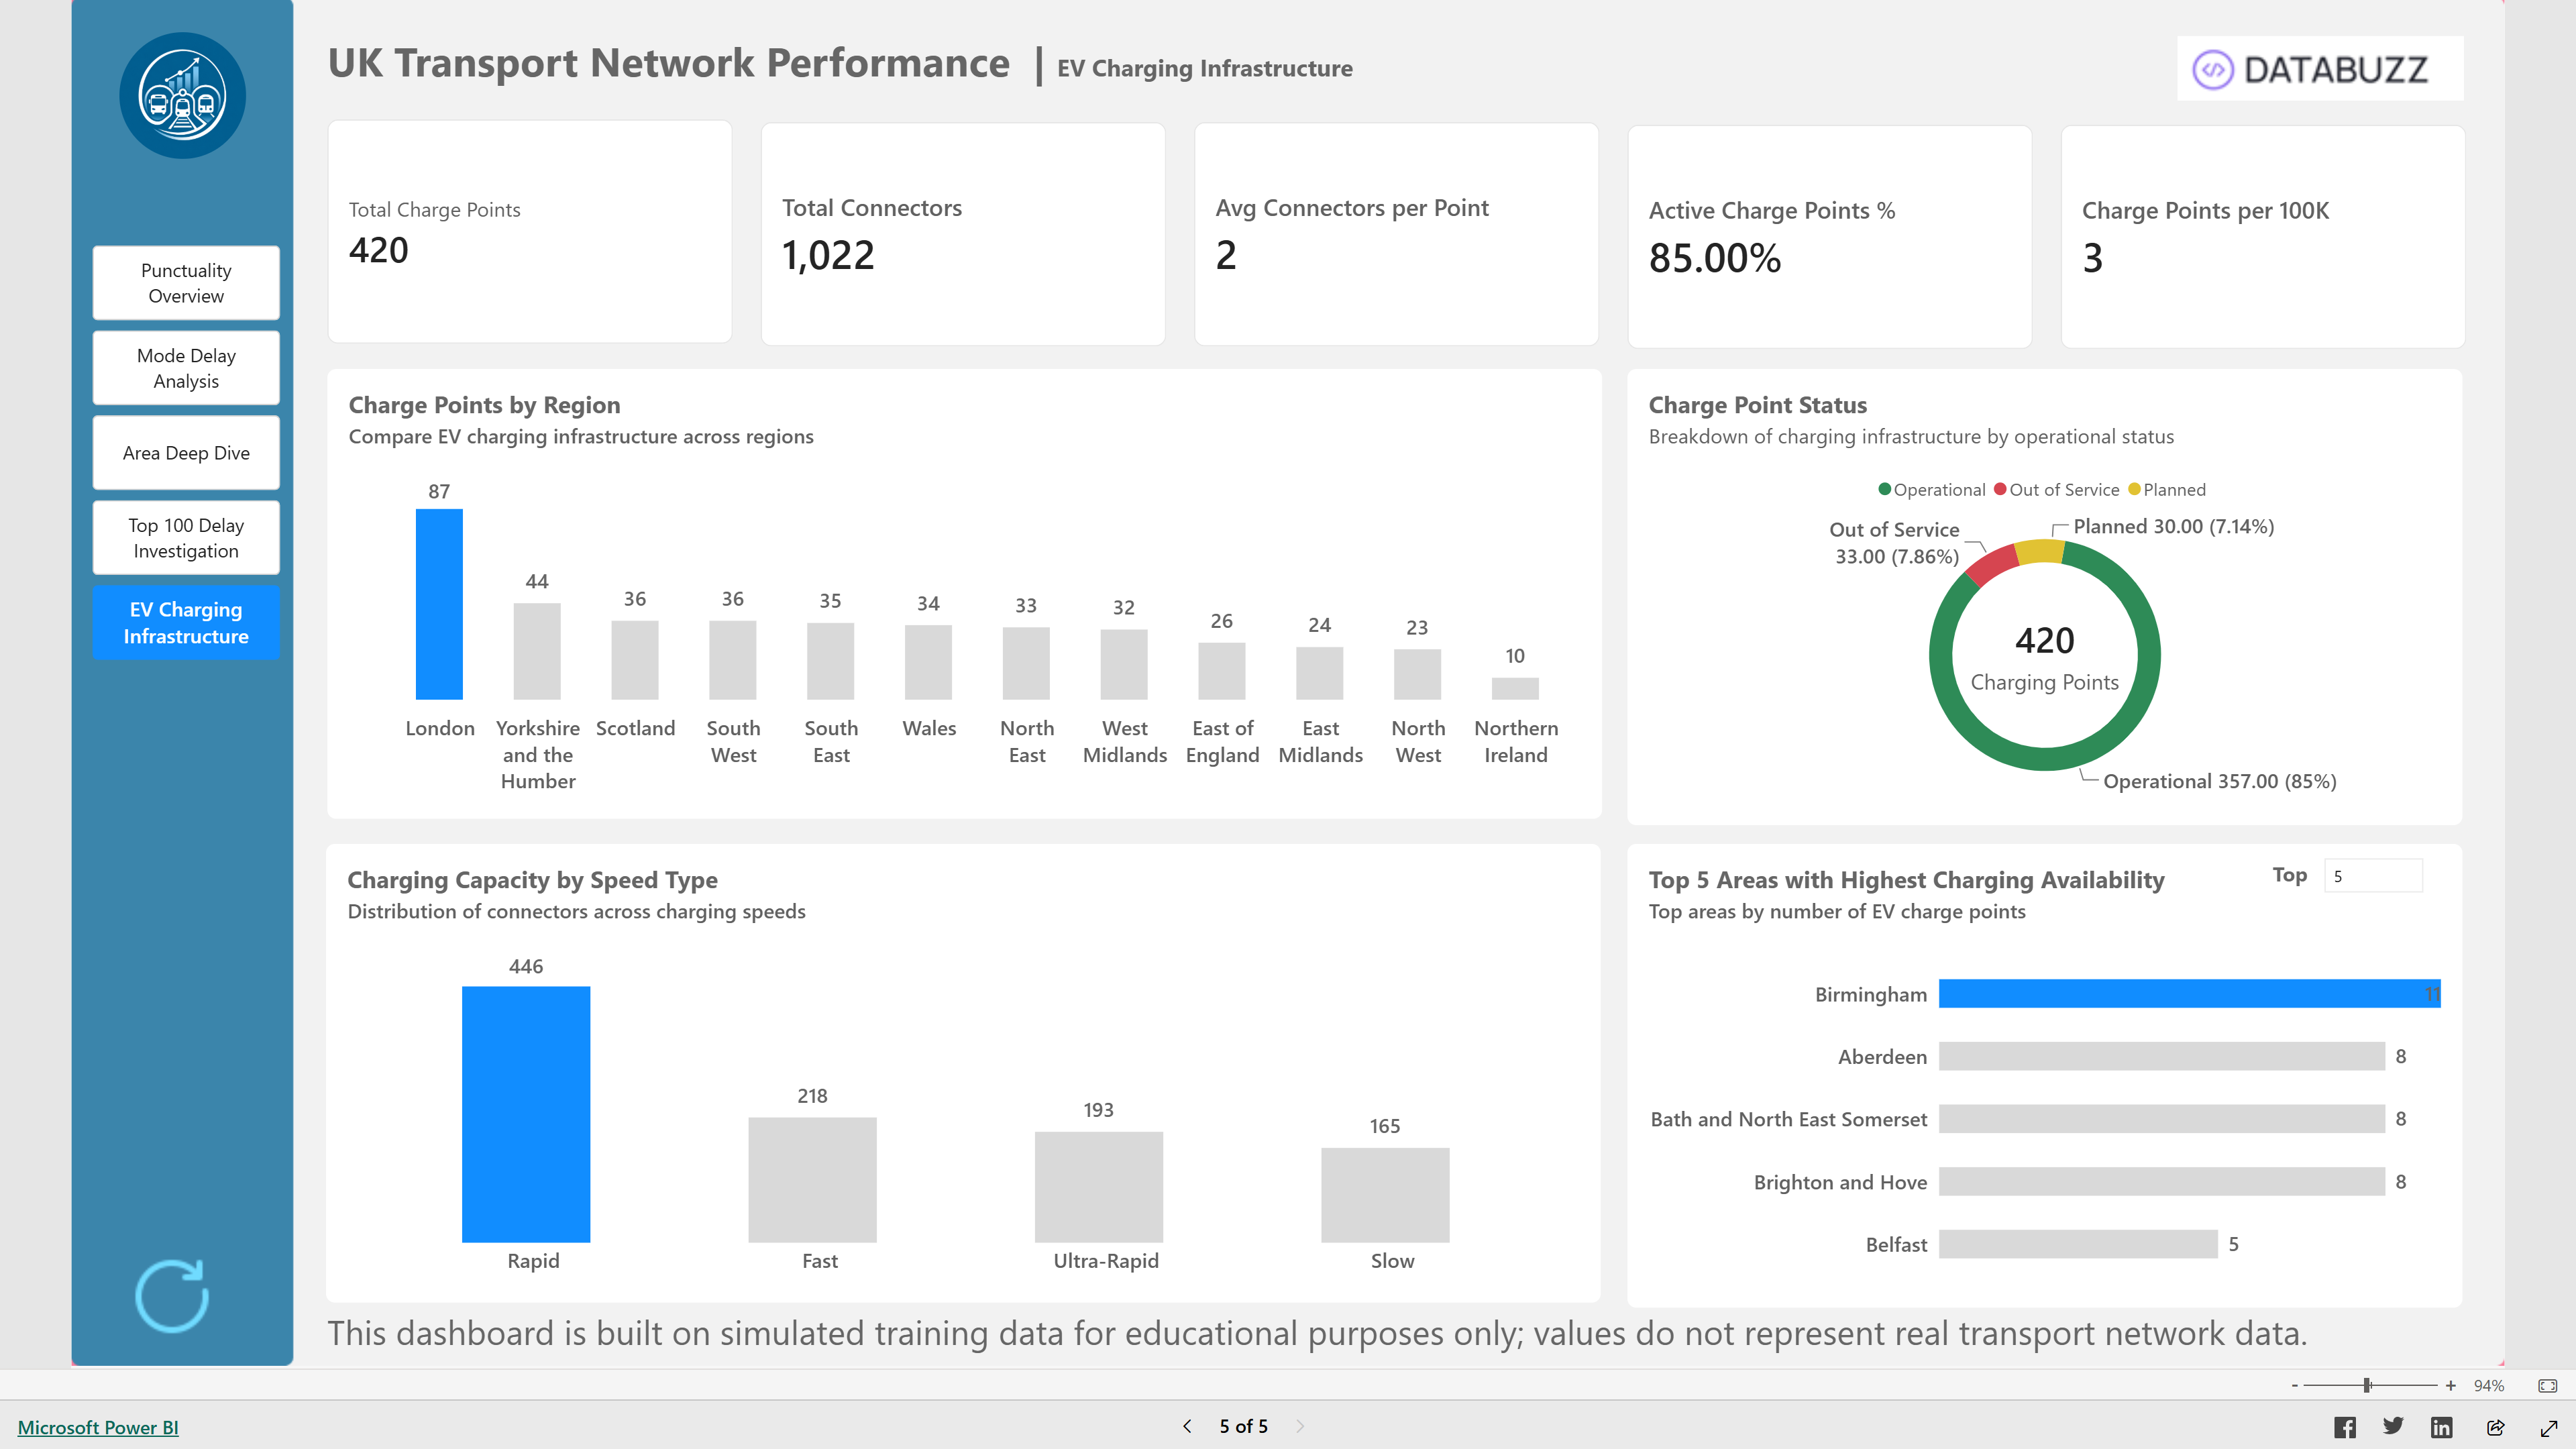

Layout of this report page (visuals, bound fields, positions):
{"tool":"powerbi","page":{"name":"EV Charging Infrastructure","canvas":[1920,1080],"ordinal":4},"visuals":[{"type":"cardVisual","fields":{"Data":["Calculations.Total Charge Points"]},"box":[202.5,93.9,320,177.4],"z":0},{"type":"cardVisual","fields":{"Data":["Calculations.Total Connectors"]},"box":[544.4,95.9,320,177.4],"z":1000},{"type":"cardVisual","fields":{"Data":["Calculations.Avg Connectors per Point"]},"box":[886.3,95.9,320,177.4],"z":2000},{"type":"cardVisual","fields":{"Data":["Calculations.Active Charge Points %"]},"box":[1228.2,98,320,177.4],"z":3000},{"type":"cardVisual","fields":{"Data":["Calculations.Charge Points per 100K"]},"box":[1570,98.9,320,177.4],"z":4000},{"type":"image","box":[1662.5,25.5,226.2,57.5],"z":5000},{"type":"textbox","box":[202.5,25,897.5,57.5],"z":6000},{"type":"textbox","box":[202.5,1032.5,1652.5,47.5],"z":8000},{"type":"image","box":[38.3,25.5,99.9,99.9],"z":10000},{"type":"image","box":[21.3,984.3,116.9,76.5],"z":13000},{"type":"lineStackedColumnComboChart","title":"Charging Capacity by Speed Type","fields":{"Category":["ev_charge_points.charge_speed_type"],"Y":["Calculations.Total Connectors"]},"box":[201.2,665.7,1006,361.7],"z":13002},{"type":"donutChart","title":"Charge Point Status","fields":{"Category":["ev_charge_points.status"],"Y":["Calculations.Total Charge Points"]},"box":[1228.6,291.1,659.3,359.6],"z":13003},{"type":"lineClusteredColumnComboChart","title":"Charge Points by Region","fields":{"Category":["dim_areas.region"],"Y":["Calculations.Total Charge Points"]},"box":[202,291.3,1005.6,355],"z":13004},{"type":"clusteredBarChart","fields":{"Category":["dim_areas.area_name"],"Y":["Calculations.Total Charge Points"]},"box":[1228.6,665.7,659.3,366],"z":13005},{"type":"pageNavigator","box":[17,193.5,148.8,329.5],"z":13008},{"type":"textbox","box":[1737.6,678.2,48.5,35.4],"z":13009},{"type":"slicer","fields":{"Values":["Top N Areas.Top N Areas"]},"box":[1769.9,672.2,150.5,64.6],"z":13010}]}

Visuals, with their boxes on the page's 1920x1080 design canvas (x1, y1, x2, y2). These are canvas units, not pixel positions in the 2576x1449 screenshot, which may show the page scaled, cropped or inside an application window:
cardVisual - Calculations.Total Charge Points: 202, 94, 522, 271
cardVisual - Calculations.Total Connectors: 544, 96, 864, 273
cardVisual - Calculations.Avg Connectors per Point: 886, 96, 1206, 273
cardVisual - Calculations.Active Charge Points %: 1228, 98, 1548, 275
cardVisual - Calculations.Charge Points per 100K: 1570, 99, 1890, 276
image: 1662, 26, 1889, 83
textbox: 202, 25, 1100, 82
textbox: 202, 1032, 1855, 1080
image: 38, 26, 138, 125
image: 21, 984, 138, 1061
"Charging Capacity by Speed Type" lineStackedColumnComboChart: 201, 666, 1207, 1027
"Charge Point Status" donutChart: 1229, 291, 1888, 651
"Charge Points by Region" lineClusteredColumnComboChart: 202, 291, 1208, 646
clusteredBarChart - dim_areas.area_name x Calculations.Total Charge Points: 1229, 666, 1888, 1032
pageNavigator: 17, 194, 166, 523
textbox: 1738, 678, 1786, 714
slicer - Top N Areas.Top N Areas: 1770, 672, 1920, 737
